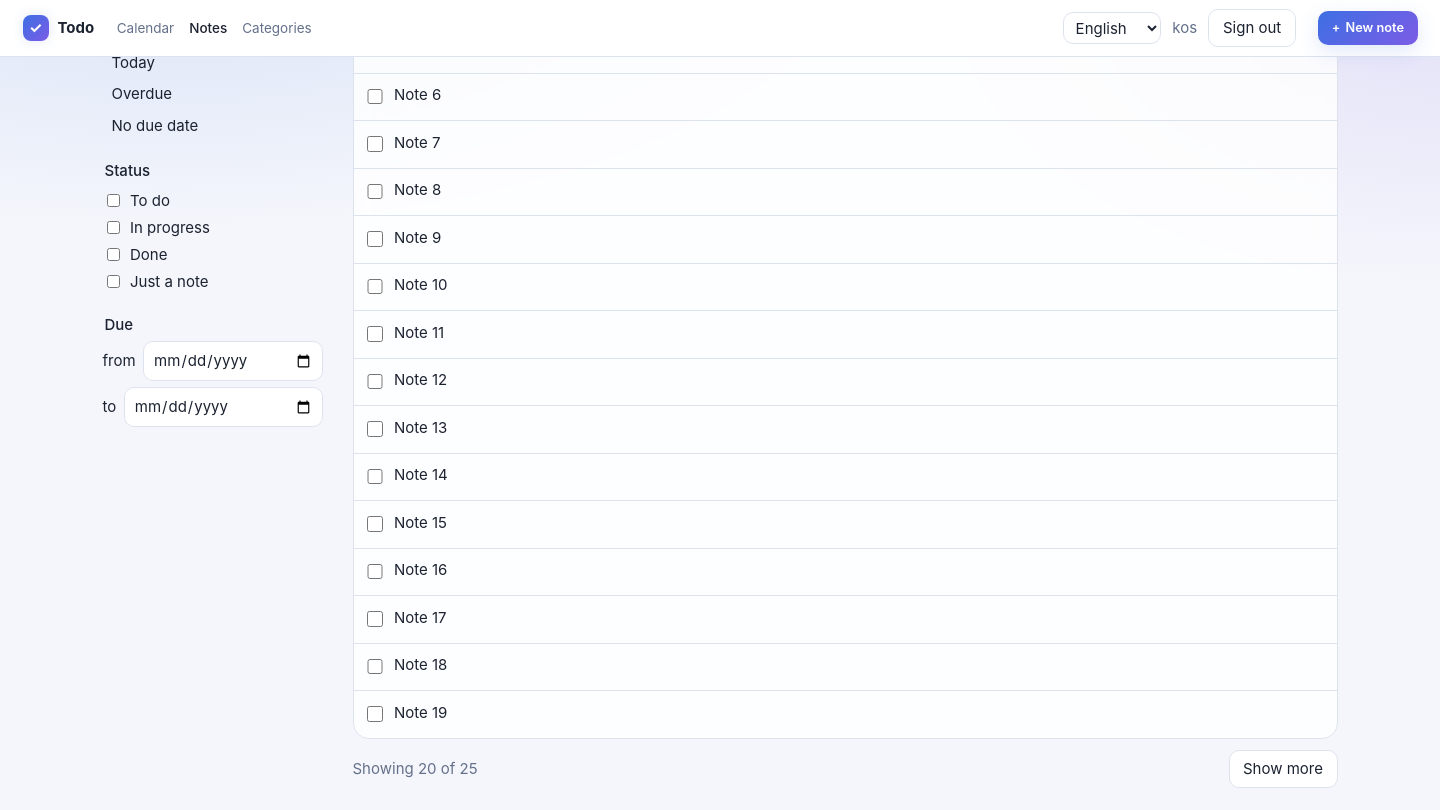
Test: notes list › loads the next page on demand
The image size is (1440, 810).
(page scrolled)
Step 1. Click the button "Show more" → (1283,769), box [1228,750,1338,788]
(page scrolled)
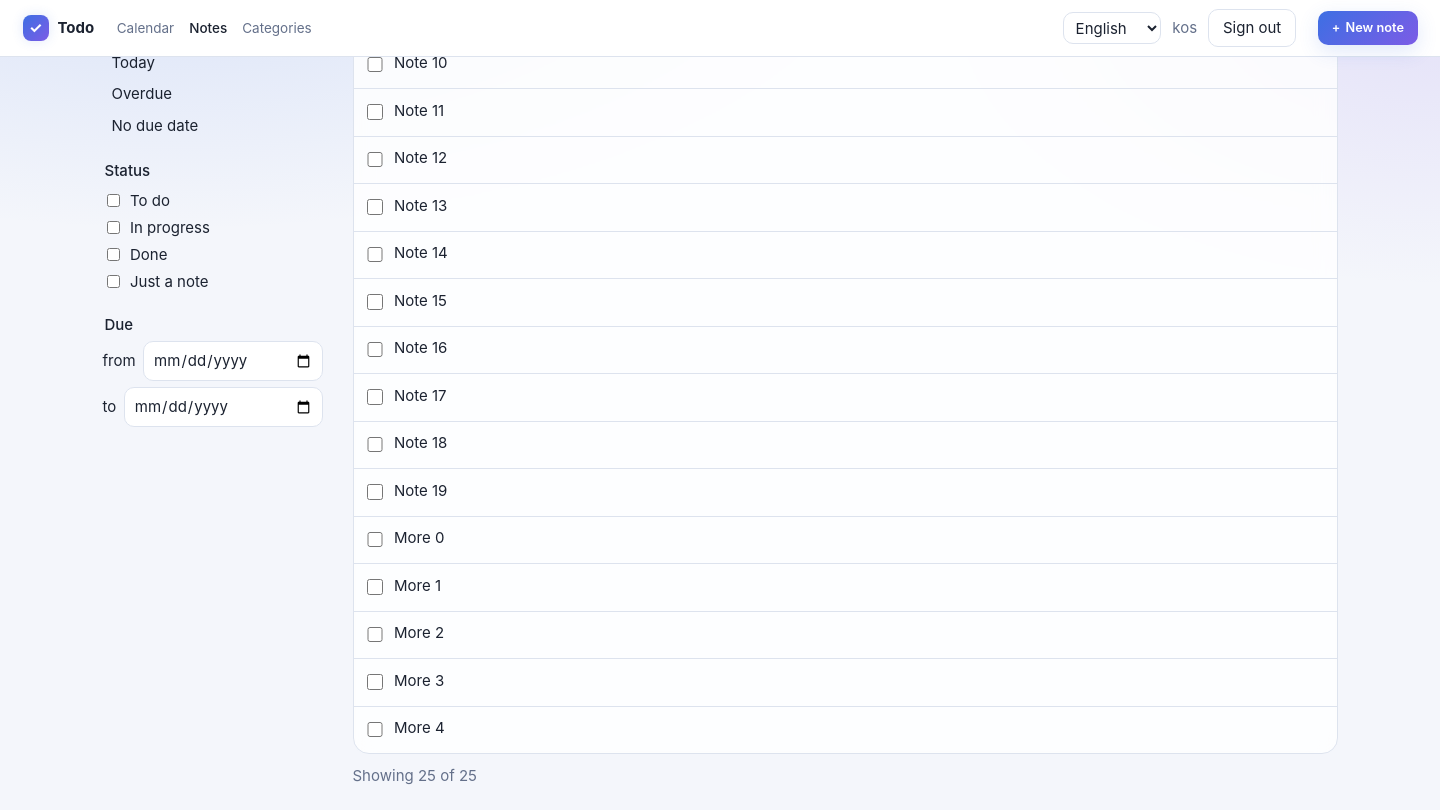
Expected: the link "More 4" is shown, [394,718,445,737]
Expected: the button "Show more" is gone
